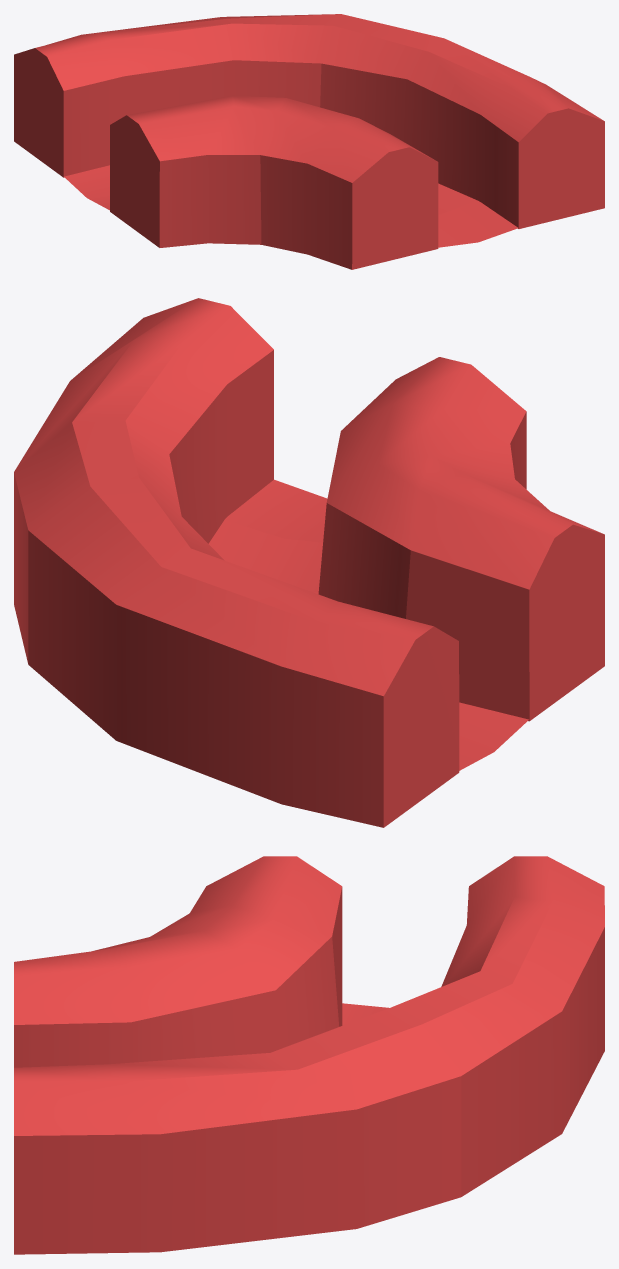
The model's file is Ground_Corner_COL.fbx.
3 views of the same model, one above another, from view 1: azimuth 30°, elevation 25°; view 2: azimuth 150°, elevation 25°; view 3: azimuth 270°, elevation 25° (orthographic). The views are drawn at different scales.
Parts seen in each view (by area): view 1: Ground_Corner_COL; view 2: Ground_Corner_COL; view 3: Ground_Corner_COL.
Part boxes in pixels (box(x1,y1,x2,y2)): Ground_Corner_COL: box(14, 14, 604, 269); Ground_Corner_COL: box(14, 298, 604, 827); Ground_Corner_COL: box(14, 856, 604, 1254).
Bounding box in the file's own units: 906 × 273 × 905.
